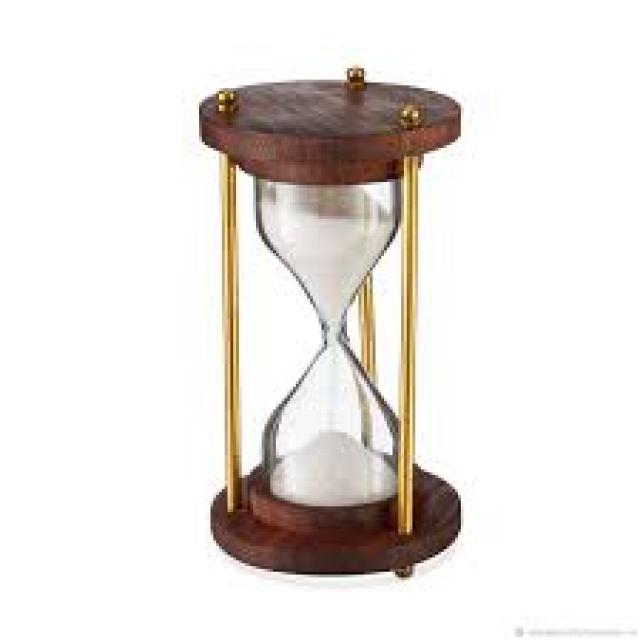clock: (177, 63, 484, 580)
